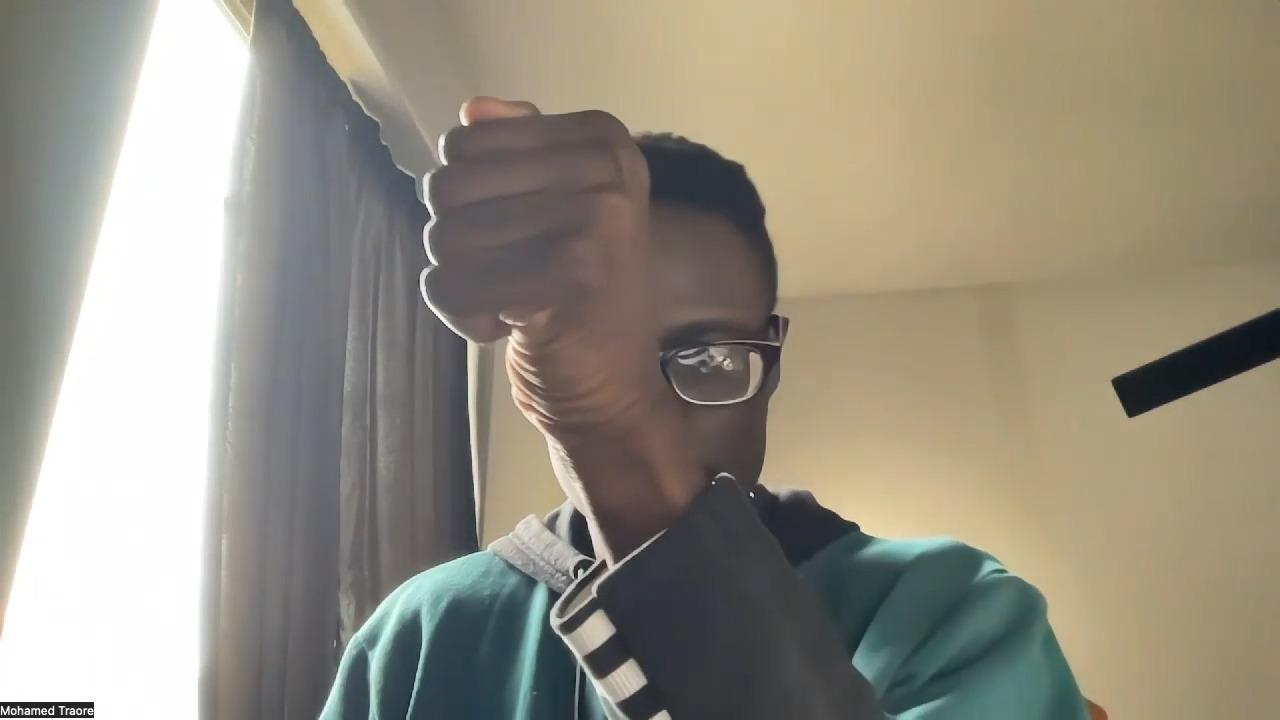Rock: (422, 93, 662, 415)
